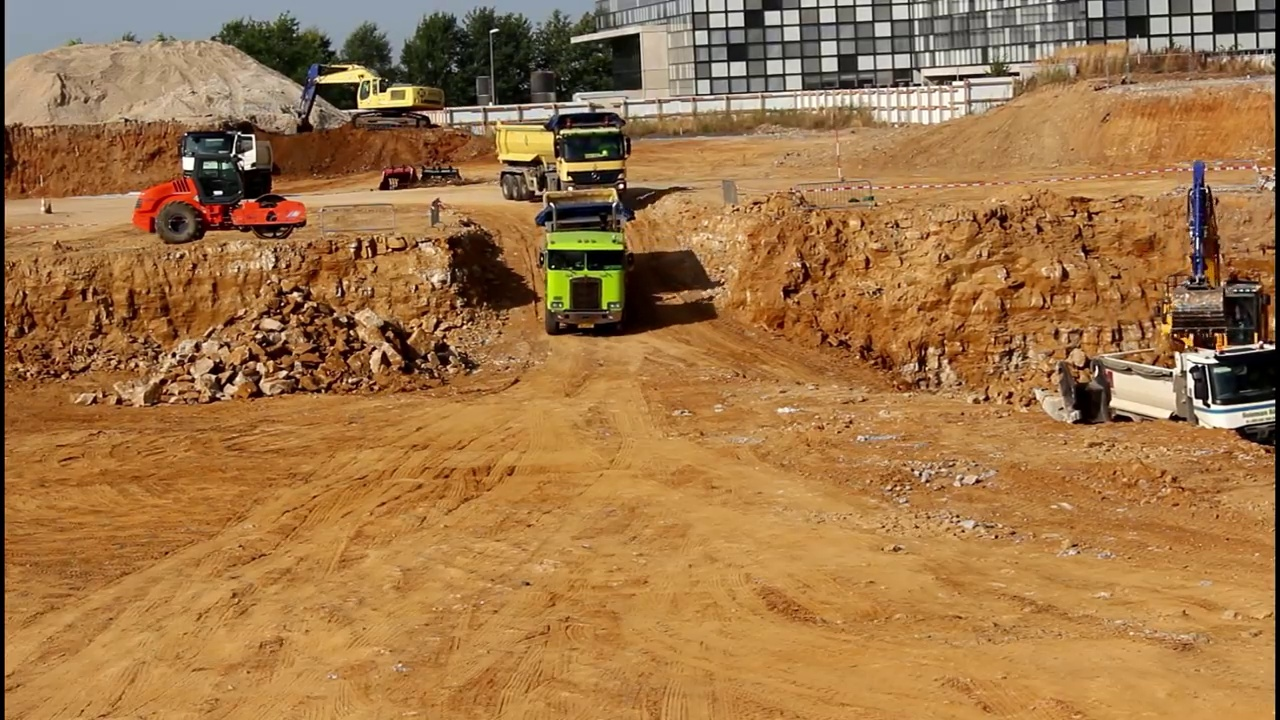compactor: (133, 152, 311, 241)
excavator: (1139, 154, 1280, 397), (288, 58, 447, 138)
truck: (1091, 340, 1280, 469), (528, 183, 640, 338), (490, 107, 635, 205), (178, 119, 285, 207)
